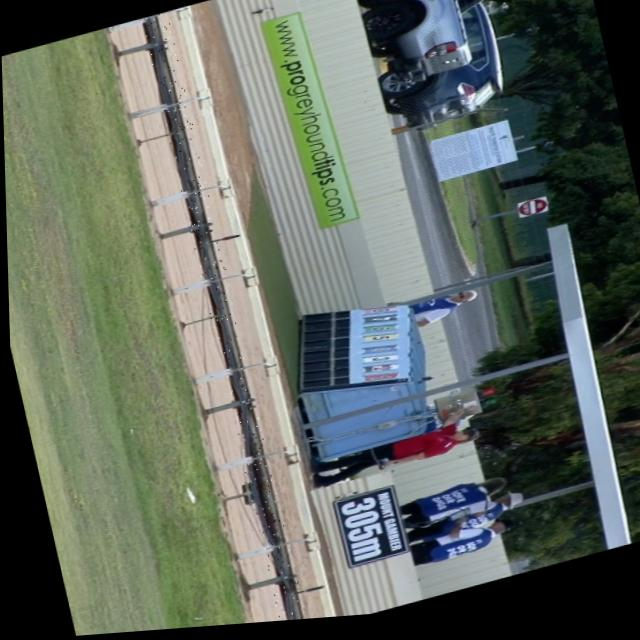rail: (141, 18, 300, 624)
